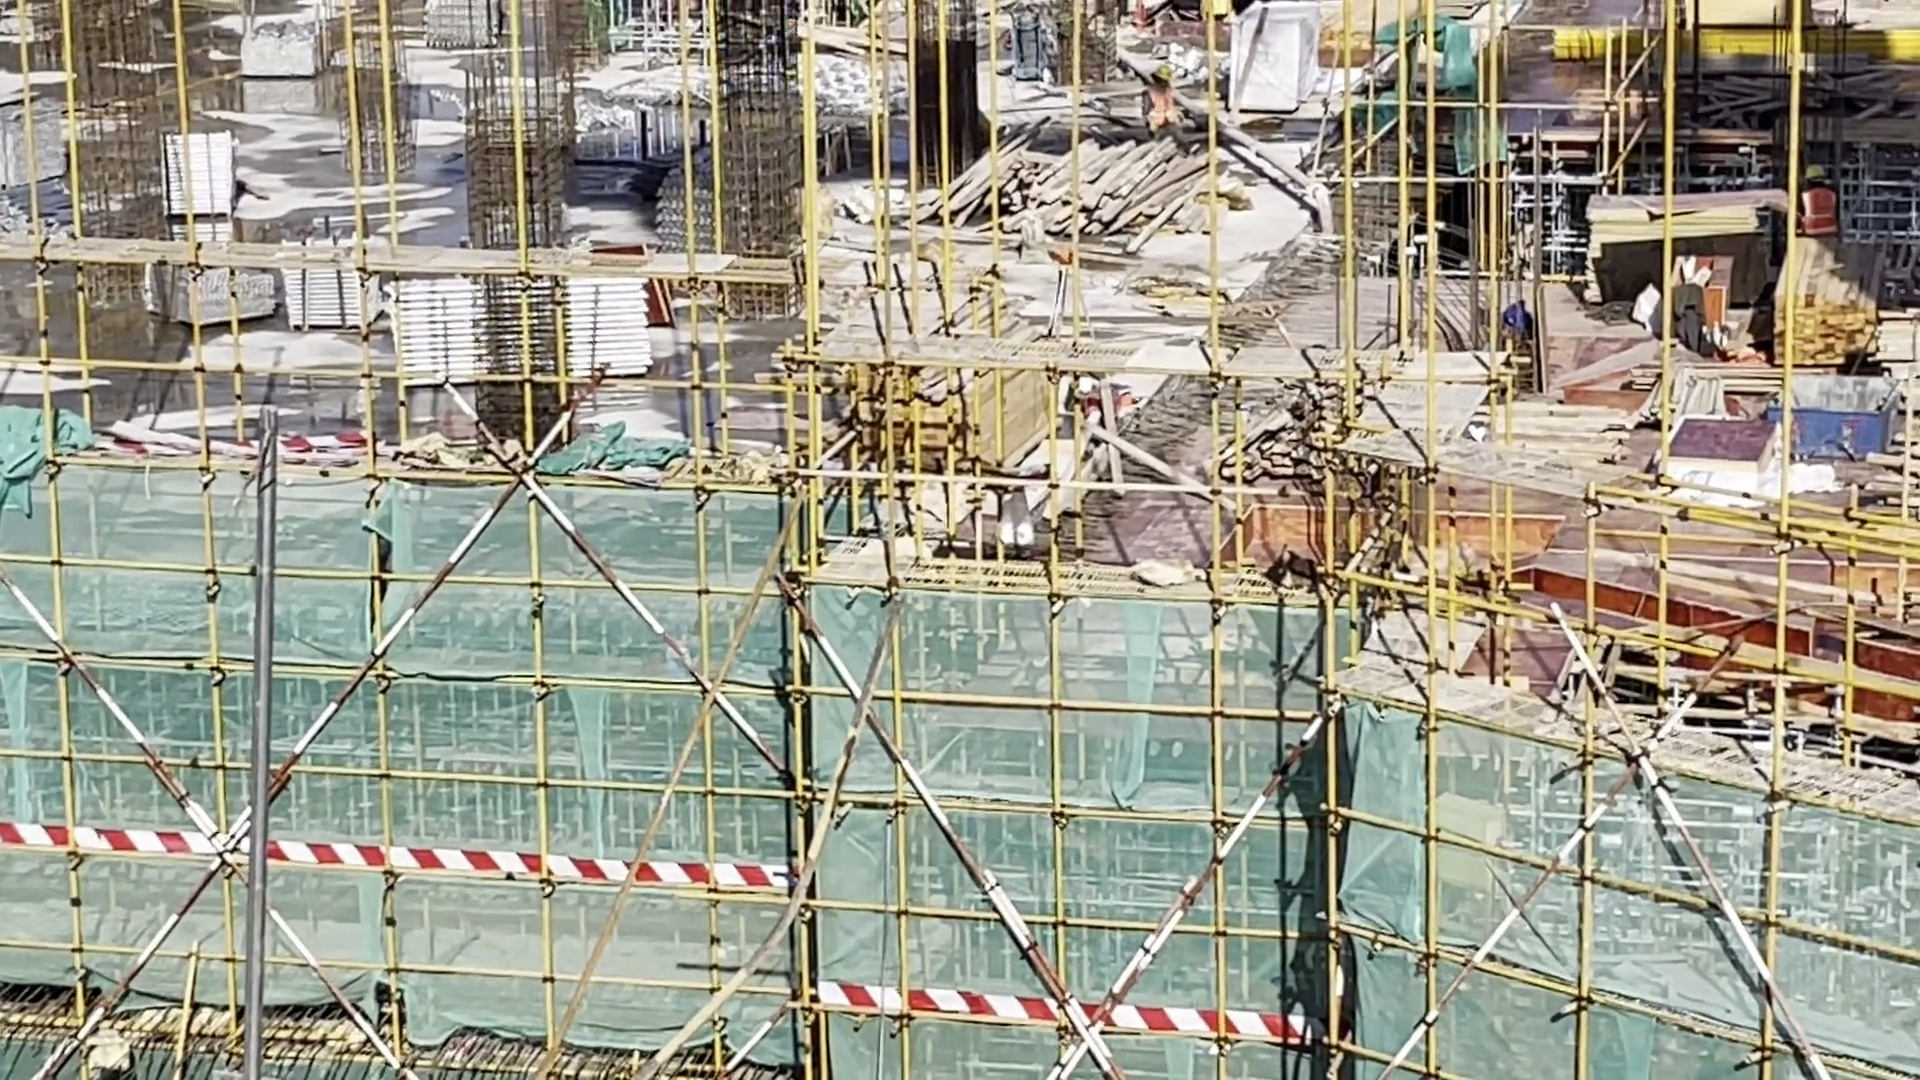helmet: (1071, 373, 1094, 400), (1148, 63, 1172, 86)
hopper: (1763, 364, 1893, 471)
person: (1143, 64, 1178, 139)
scaffold: (396, 282, 671, 375), (278, 231, 392, 335), (159, 131, 240, 224)
vest: (1148, 86, 1170, 123)
wood: (818, 357, 1060, 478), (964, 137, 1192, 263), (1780, 224, 1895, 360)
